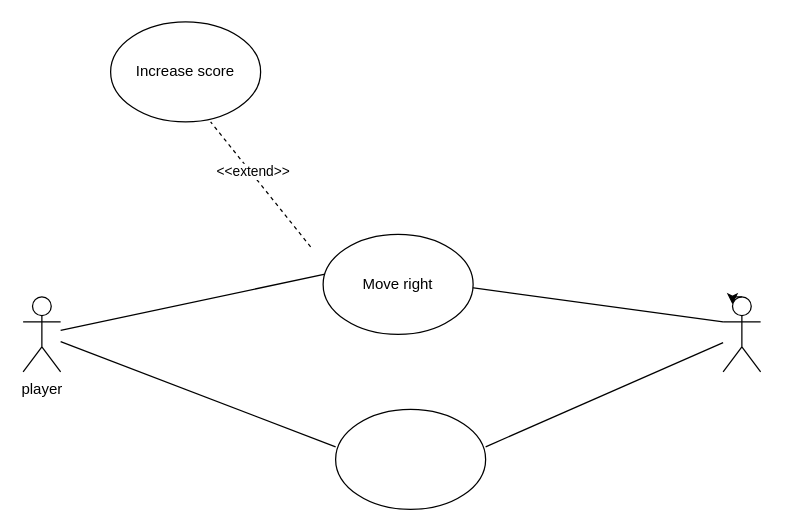
This 791x531 diagram has some shape labels left out. Each missing label, with the centre of its shape:
enemies: the point at 741,334
Move left: the point at 410,458
